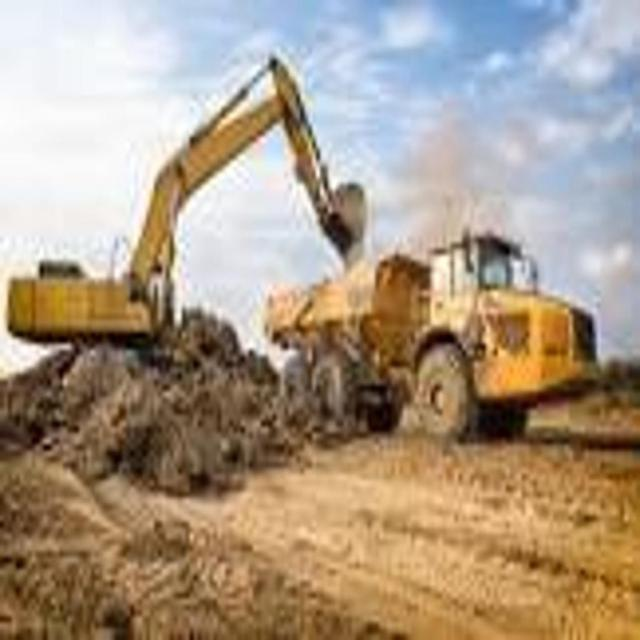dump_truck: (266, 223, 601, 457)
